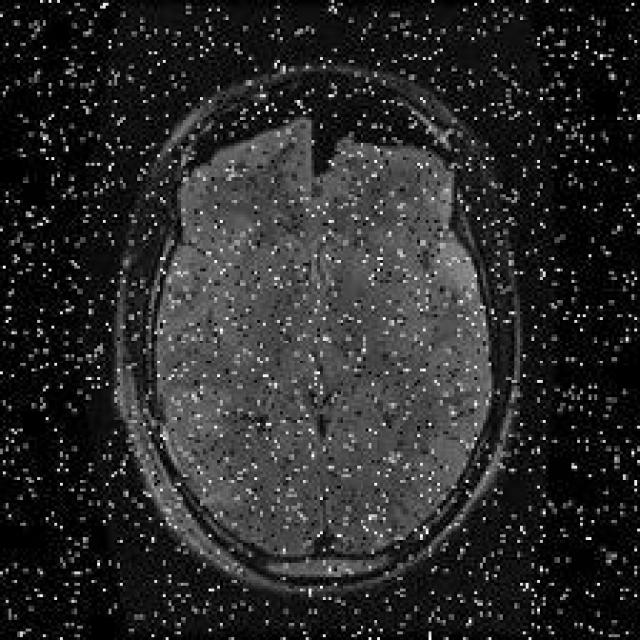no_tumor: (101, 60, 545, 607)
